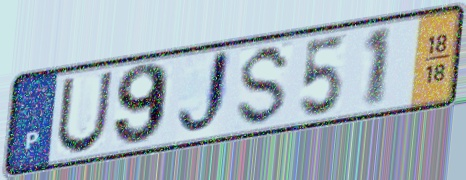1: (359, 23, 395, 112)
5: (296, 32, 351, 119)
9: (112, 60, 176, 150)
J: (174, 45, 234, 142)
S: (232, 41, 295, 130)
U: (53, 69, 116, 157)
